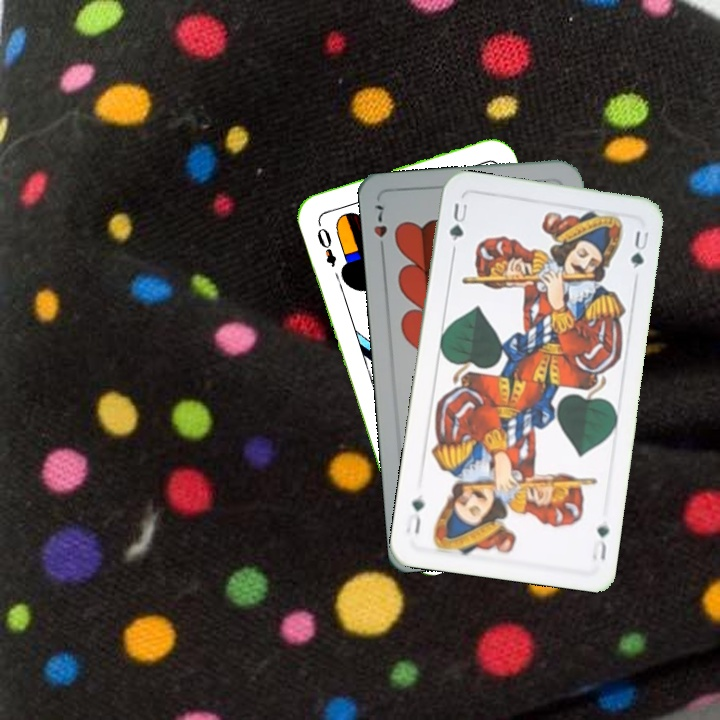EO: (313, 218, 339, 270)
GU: (445, 199, 470, 244), (588, 520, 612, 563)
H7: (369, 201, 389, 257)
